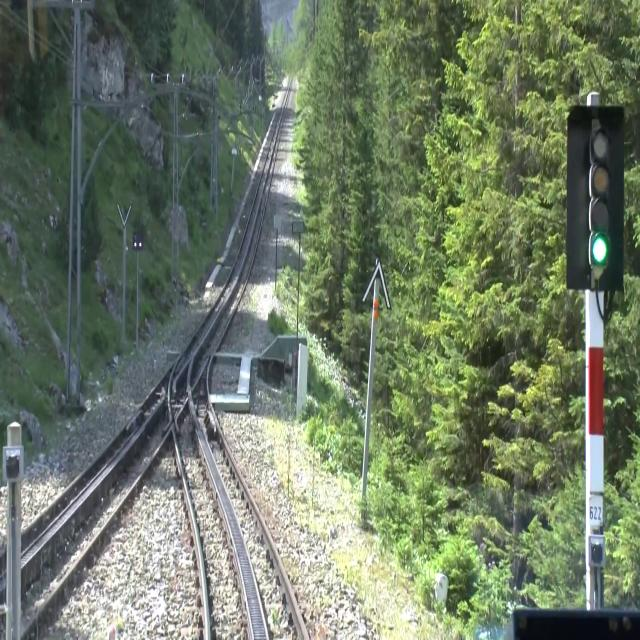rail-track: (171, 75, 293, 418), (18, 372, 170, 631), (175, 370, 304, 639), (0, 553, 7, 639)
